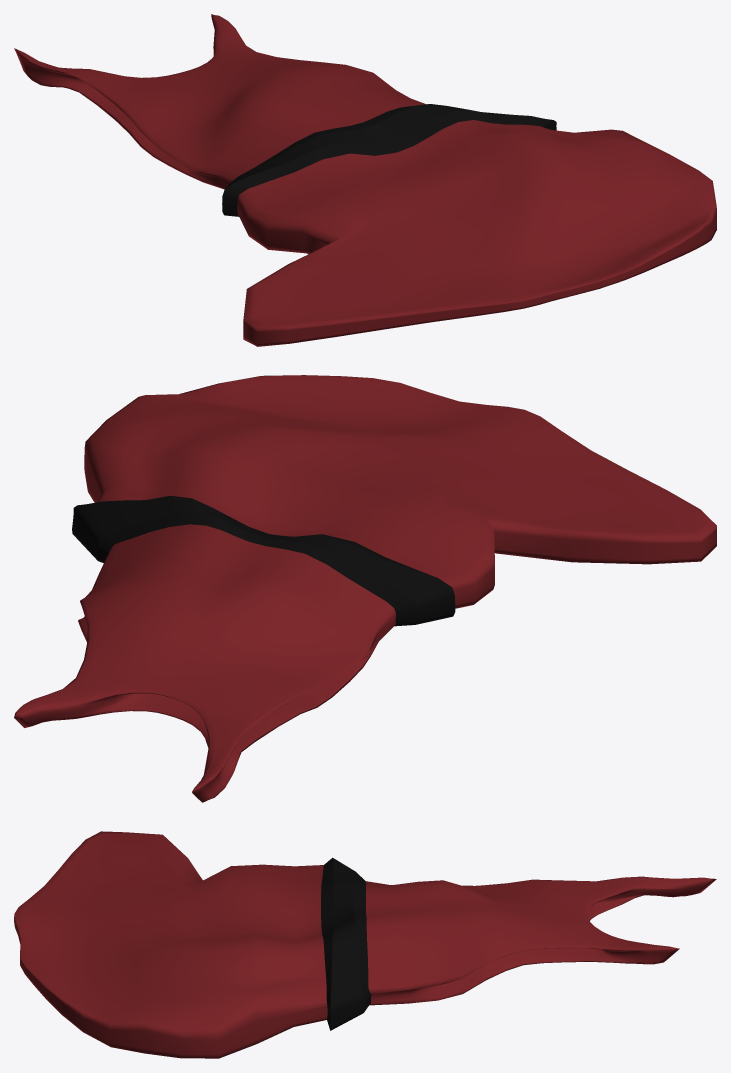
Rendered from crumpledDress.fbx.
3 renders of one model, top to bottom at view 1: azimuth 30°, elevation 25°; view 2: azimuth 150°, elevation 25°; view 3: azimuth 270°, elevation 25°, orthographic. The views are drawn at different scales.
Parts seen in each view (by area): view 1: polySurface19, polySurface18; view 2: polySurface19, polySurface18; view 3: polySurface19, polySurface18.
Part boxes in pixels (x1=…): polySurface19: x1=14, y1=14, x2=716, y2=346; polySurface18: x1=222, y1=104, x2=556, y2=216; polySurface19: x1=14, y1=375, x2=716, y2=802; polySurface18: x1=72, y1=495, x2=455, y2=626; polySurface19: x1=14, y1=831, x2=716, y2=1058; polySurface18: x1=321, y1=857, x2=371, y2=1030.
Bounding box in the file's own units: 64.41 × 8.54 × 91.61.
